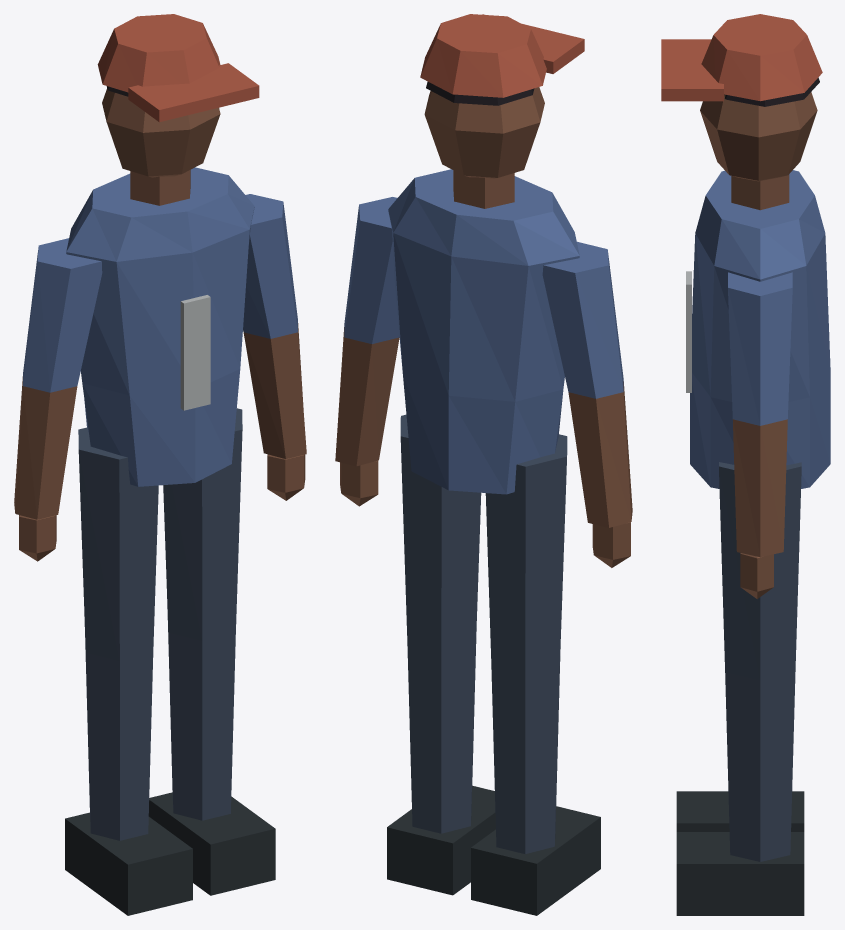
The model's file is pedestrian-runner.lod0.glb.
The picture shows the model from 3 angles, left to right: view 1: azimuth 30°, elevation 25°; view 2: azimuth 150°, elevation 25°; view 3: azimuth 270°, elevation 25°; orthographic projection.
Visible parts, largest first — view 1: pedestrian-body; view 2: pedestrian-body; view 3: pedestrian-body.
Part boxes in pixels (x1,y1,x2,y2): pedestrian-body: (14, 14, 306, 915); pedestrian-body: (335, 14, 632, 915); pedestrian-body: (661, 14, 830, 915).
Bounding box in the file's own units: 0.6775 × 1.86 × 0.3377.
